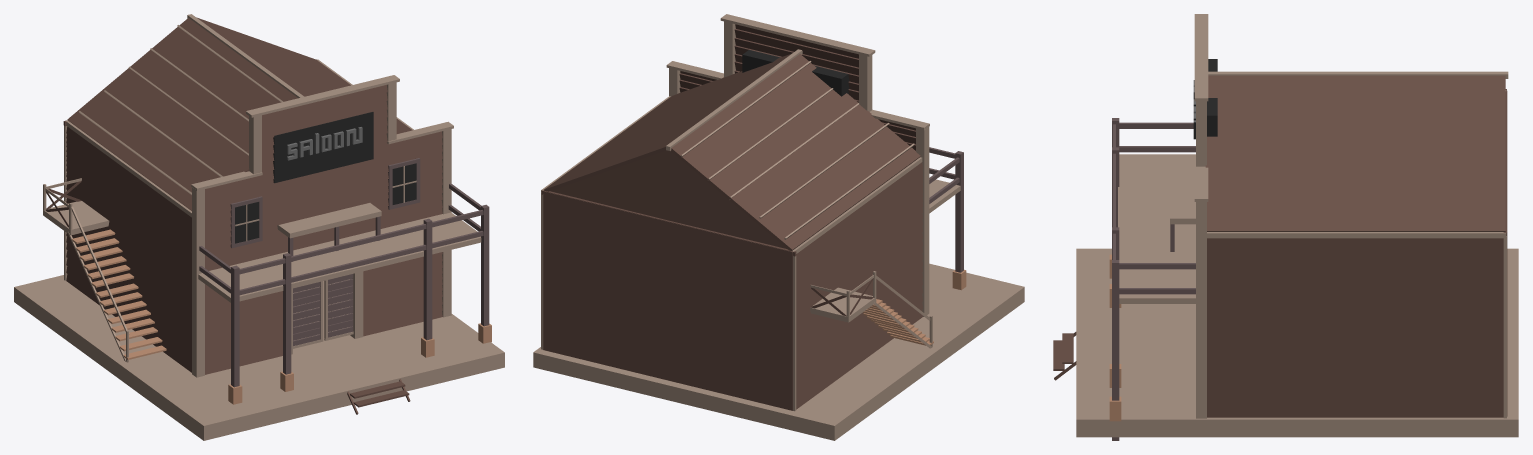
File: west_saloon.fbx
The picture shows the model from 3 angles, left to right: view 1: azimuth 30°, elevation 25°; view 2: azimuth 150°, elevation 25°; view 3: azimuth 270°, elevation 25°; orthographic projection. The views are drawn at different scales.
Parts seen in each view (by area): view 1: pCube1, pCube34, pCube12, pCube184, pCube32, pCube3, pCube79, pCube71, pCube194, pCube72, pCube2, pCube18 (+65 smaller); view 2: pCube35, pCube34, pCube1, pPyramid1, pCube32, pCube3, pCube8, pCube63, pCube184, pCube111, pCube36, pCube13 (+35 smaller); view 3: pCube61, pCube32, pCube1, pCube12, pCube2, pCube23, pCube33, pCube194, pCube8, pCube16, pCube7, pCube26 (+6 smaller).
Boxes of the visible parts, bbox=[...] form: pCube1: bbox=[14, 275, 504, 440]; pCube34: bbox=[67, 18, 297, 210]; pCube12: bbox=[198, 212, 481, 302]; pCube184: bbox=[273, 112, 373, 183]; pCube32: bbox=[196, 17, 412, 133]; pCube3: bbox=[192, 187, 204, 377]; pCube79: bbox=[205, 200, 442, 265]; pCube71: bbox=[205, 145, 442, 209]; pCube194: bbox=[277, 203, 381, 238]; pCube72: bbox=[205, 151, 442, 216]; pCube2: bbox=[441, 129, 451, 317]; pCube18: bbox=[239, 231, 483, 295]; pCube35: bbox=[543, 191, 792, 410]; pCube34: bbox=[671, 54, 920, 250]; pCube1: bbox=[533, 263, 1024, 440]; pPyramid1: bbox=[550, 150, 786, 248]; pCube32: bbox=[544, 53, 791, 191]; pCube3: bbox=[916, 127, 929, 316]; pCube8: bbox=[720, 14, 875, 56]; pCube63: bbox=[734, 28, 858, 67]; pCube184: bbox=[742, 50, 849, 96]; pCube111: bbox=[810, 287, 876, 322]; pCube36: bbox=[796, 162, 922, 261]; pCube13: bbox=[955, 151, 963, 272]; pCube61: bbox=[1207, 238, 1503, 417]; pCube32: bbox=[1205, 75, 1505, 231]; pCube1: bbox=[1076, 248, 1518, 437]; pCube12: bbox=[1118, 154, 1195, 303]; pCube2: bbox=[1196, 202, 1206, 418]; pCube23: bbox=[1207, 232, 1506, 238]; pCube33: bbox=[1208, 71, 1508, 78]; pCube194: bbox=[1170, 166, 1195, 224]; pCube8: bbox=[1194, 14, 1208, 101]; pCube16: bbox=[1112, 260, 1119, 440]; pCube7: bbox=[1196, 101, 1206, 166]; pCube26: bbox=[1503, 236, 1506, 418].
Bounding box in the file's own units: 8.8 × 7.44 × 10.07.
